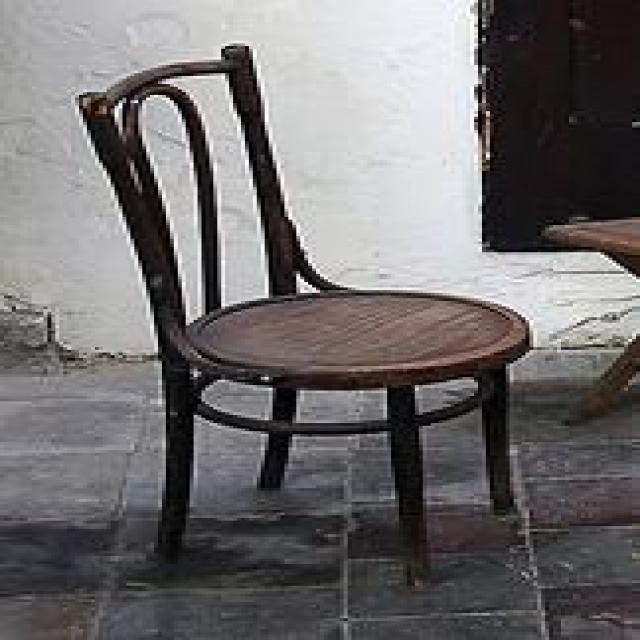chair: (71, 41, 529, 586)
